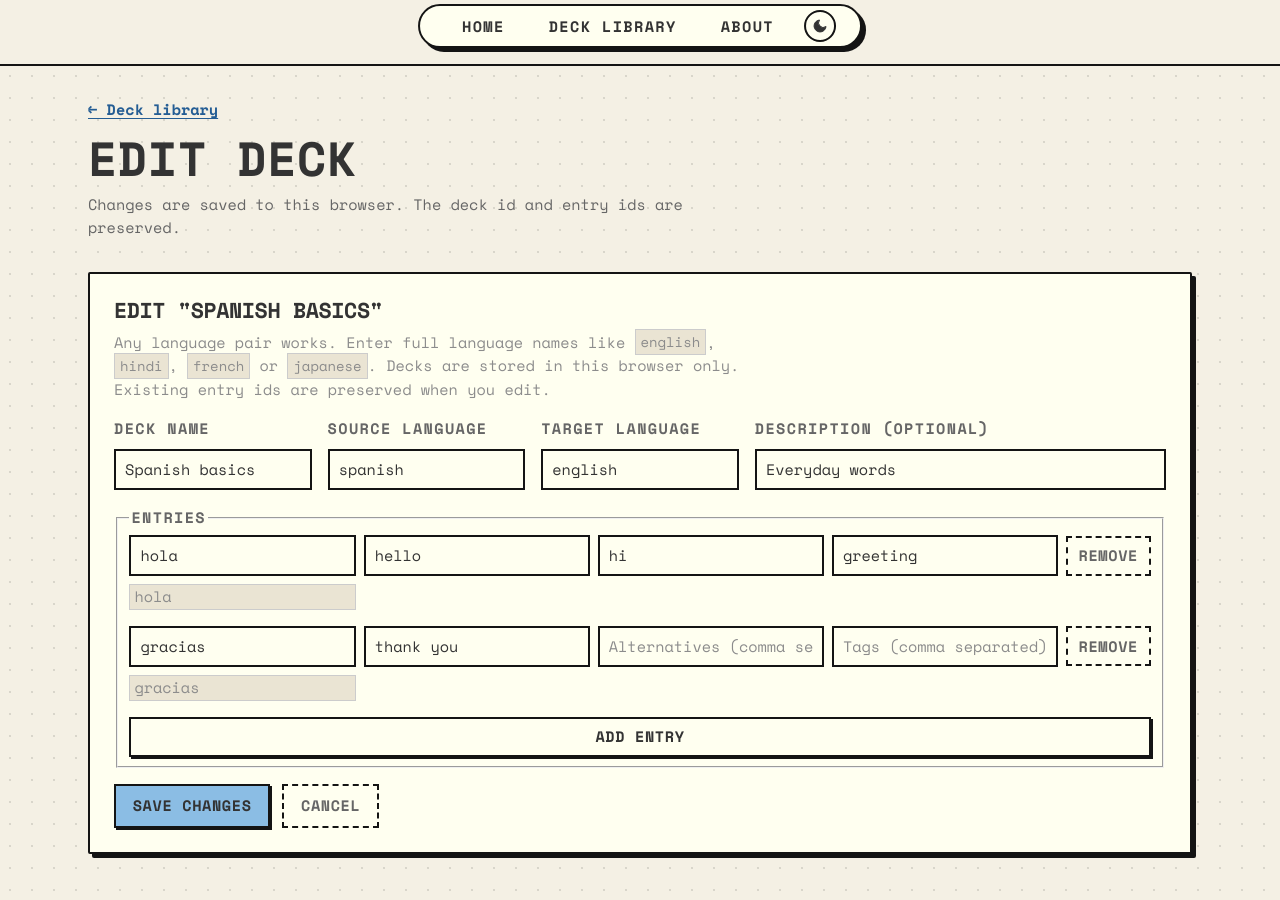
Test: custom deck creation and editing › edits an existing deck, preserving its id and entry ids
Expected: the heading "Edit \"Spanish basics\"" is shown, x1=114 y1=294 x2=382 y2=326
Expected: the text titled "Entry id (stable)" reads "hola", x1=134 y1=585 x2=172 y2=607
Type "Spanish everyday" into the field labelled "Deck name" at (213, 470), box x1=114 y1=449 x2=312 y2=490
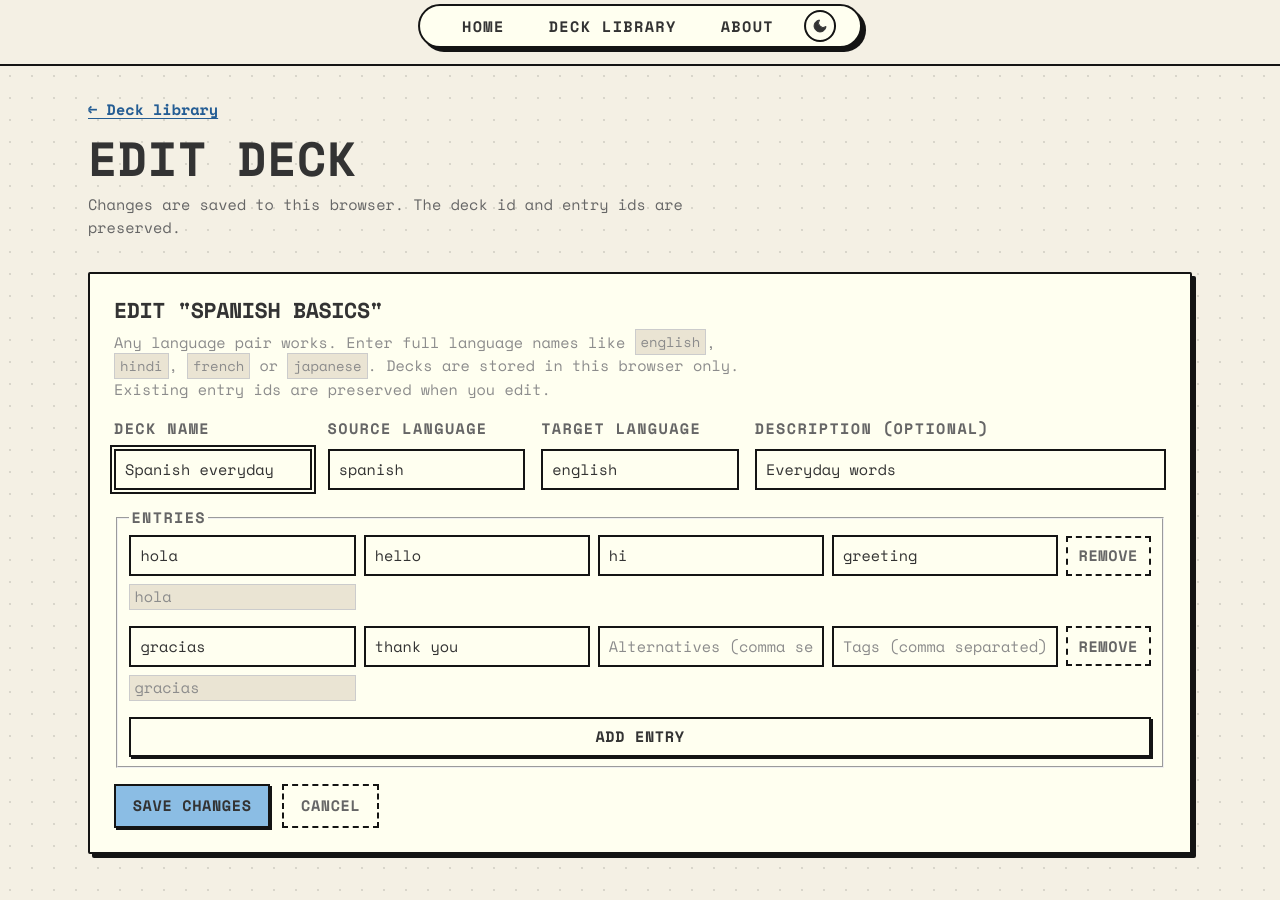
Replace the text in the field named "Entry 1 translation" with "hey there" at (477, 556), box x1=364 y1=535 x2=590 y2=576
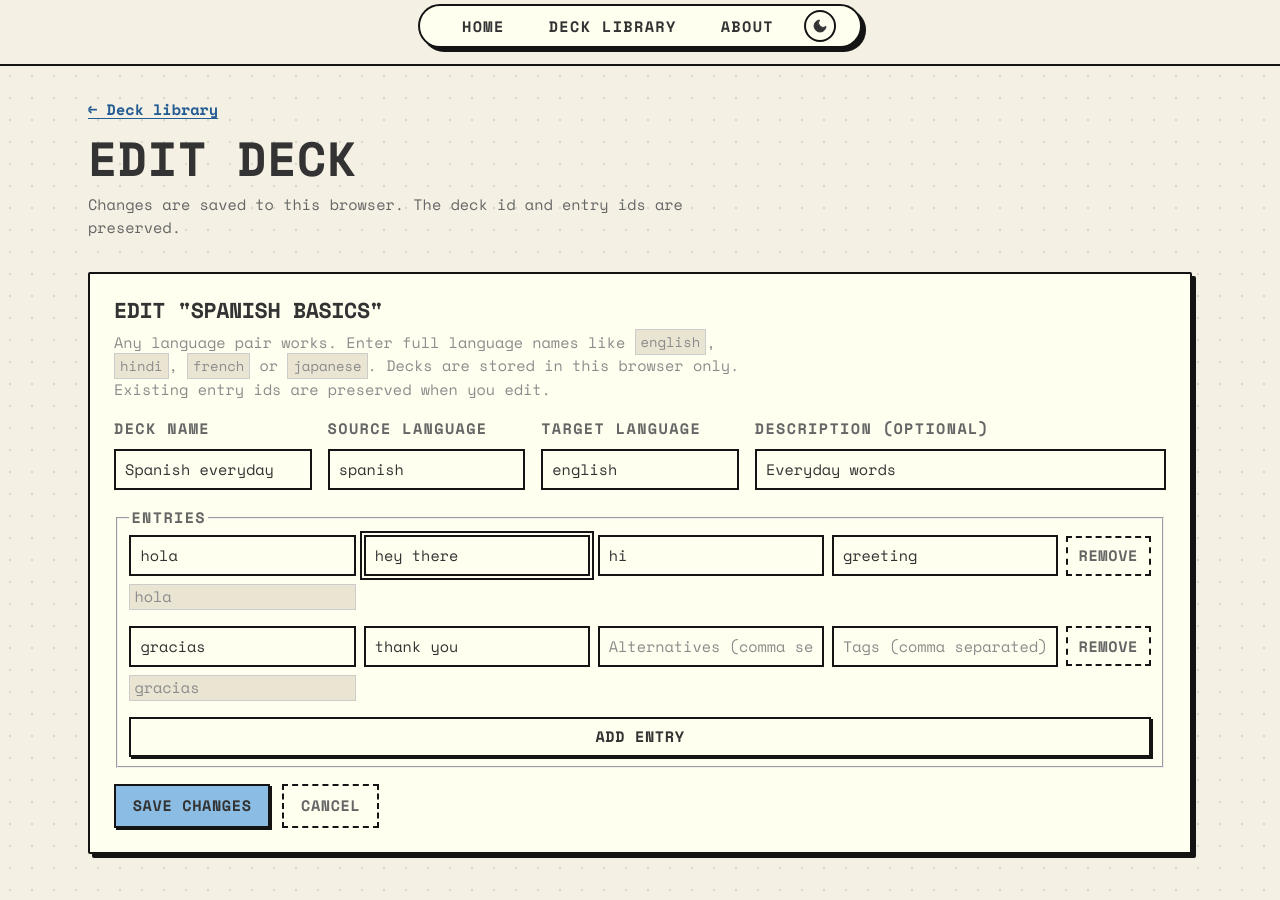
Click the button "Save changes" at (192, 806), box x1=114 y1=784 x2=270 y2=828
(page scrolled)
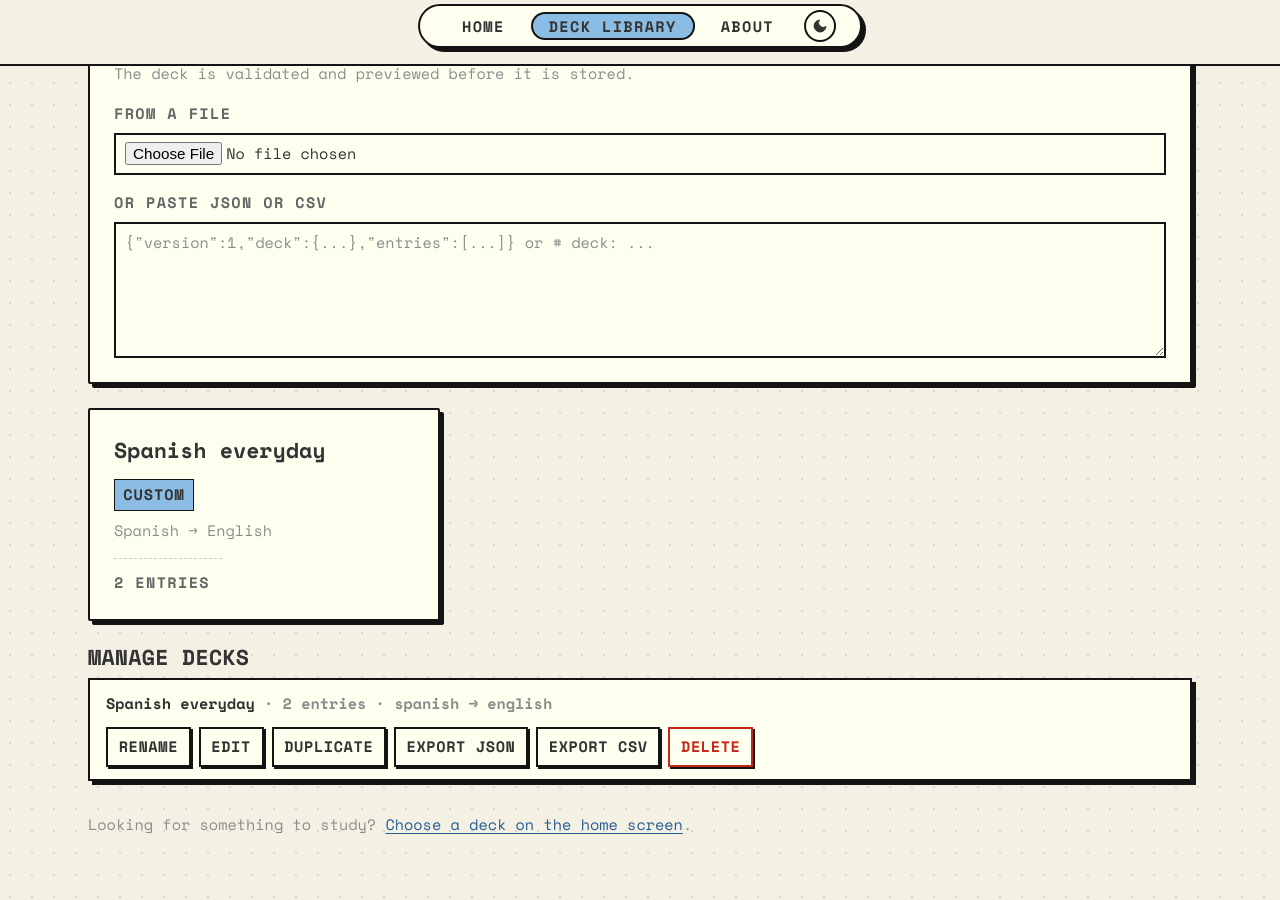
Expected: the text "Spanish everyday" is shown, x1=114 y1=434 x2=326 y2=467
